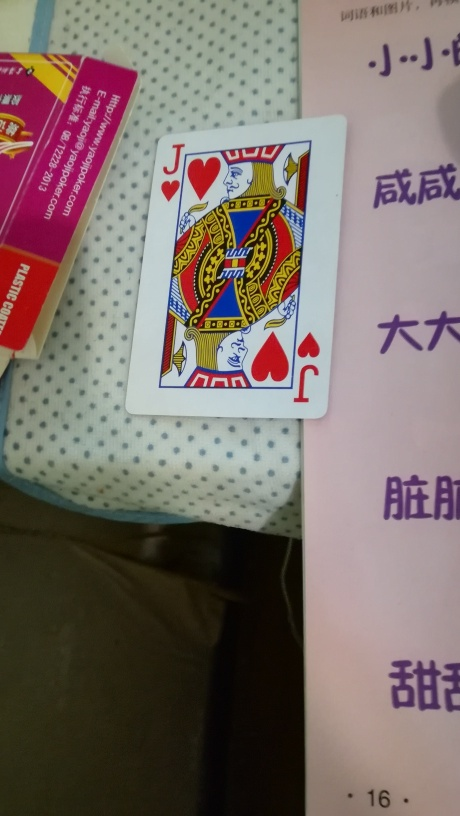hx j: (125, 115, 346, 423)
